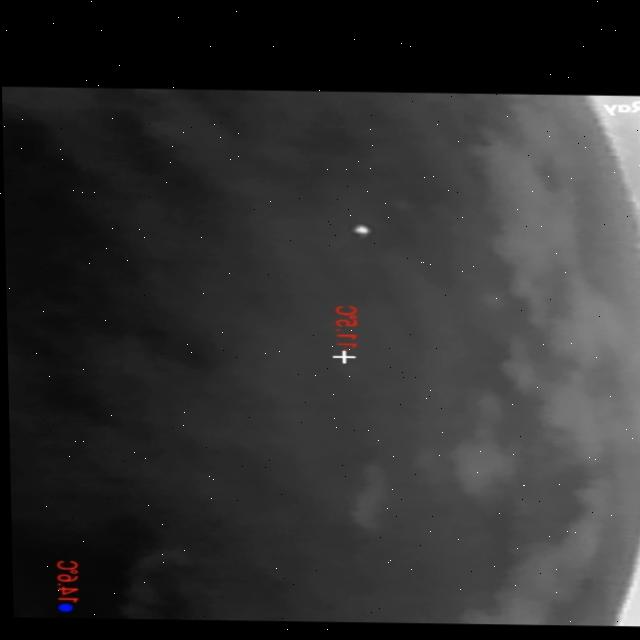drone: (344, 221, 376, 237)
